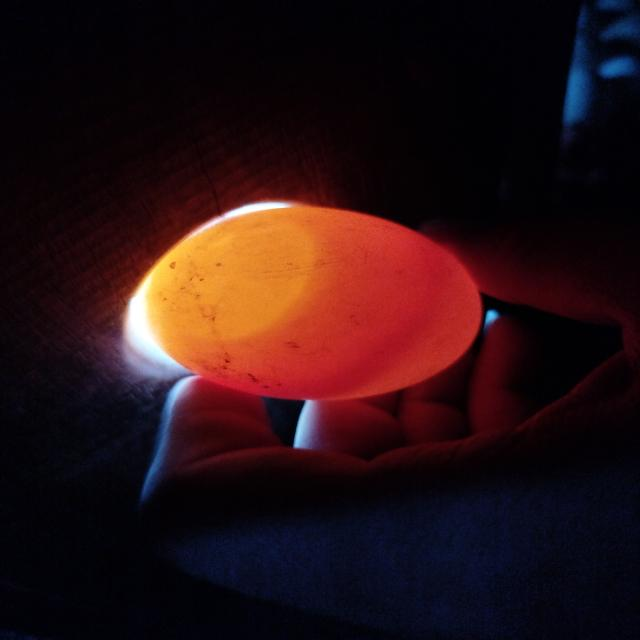Camara de Ar: (147, 208, 314, 340)
Gema Quebrada: (264, 233, 462, 400)
